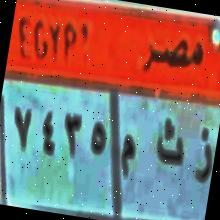3: (56, 100, 88, 170)
4: (33, 102, 62, 168)
5: (86, 116, 110, 168)
7: (6, 97, 39, 162)
meem: (115, 125, 140, 185)
thaa: (149, 110, 191, 182)
zay: (185, 116, 219, 195)
